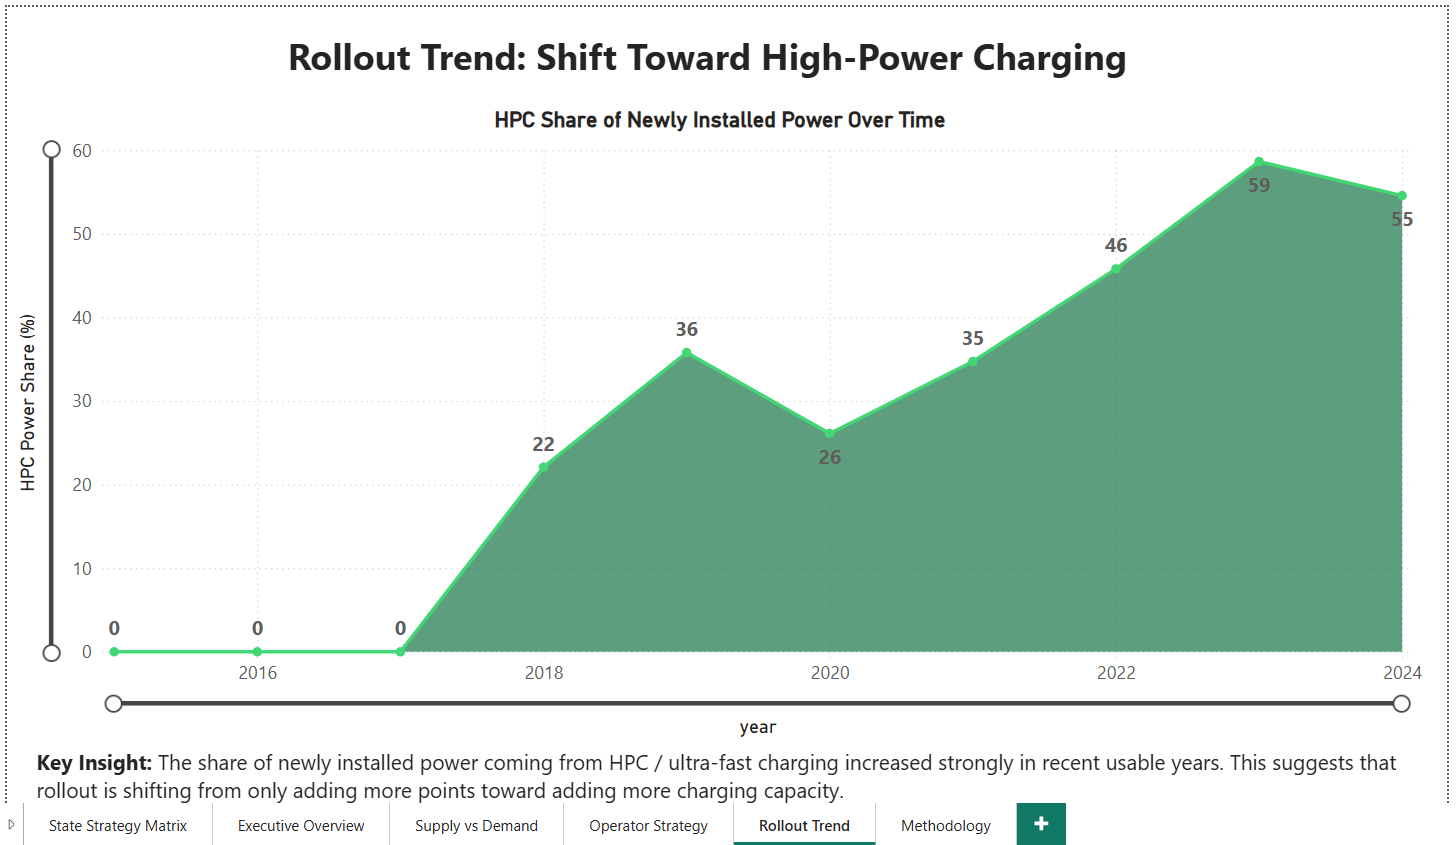

What the dashboard file says about the page in this screenshot:
{"tool":"powerbi","page":{"name":"Rollout Trend","canvas":[1280,720],"ordinal":4},"visuals":[{"type":"lineChart","title":"HPC Share of Newly Installed Power Over Time","fields":{"Category":["Rollout_Trend.year"],"Y":["Sum(Rollout_Trend.hpc_power_share_pct)"]},"box":[4.3,88.6,1258.6,564.3],"z":0},{"type":"textbox","box":[21.4,652.9,1241.4,67.1],"z":1000},{"type":"textbox","box":[244.3,17.1,791.4,55.7],"z":2000}]}

Visuals, with their boxes on the page's 1280x720 design canvas (x1, y1, x2, y2). These are canvas units, not pixel positions in the 1456x845 screenshot, which may show the page scaled, cropped or inside an application window:
"HPC Share of Newly Installed Power Over Time" lineChart: detection(4, 89, 1263, 653)
textbox: detection(21, 653, 1263, 720)
textbox: detection(244, 17, 1036, 73)
